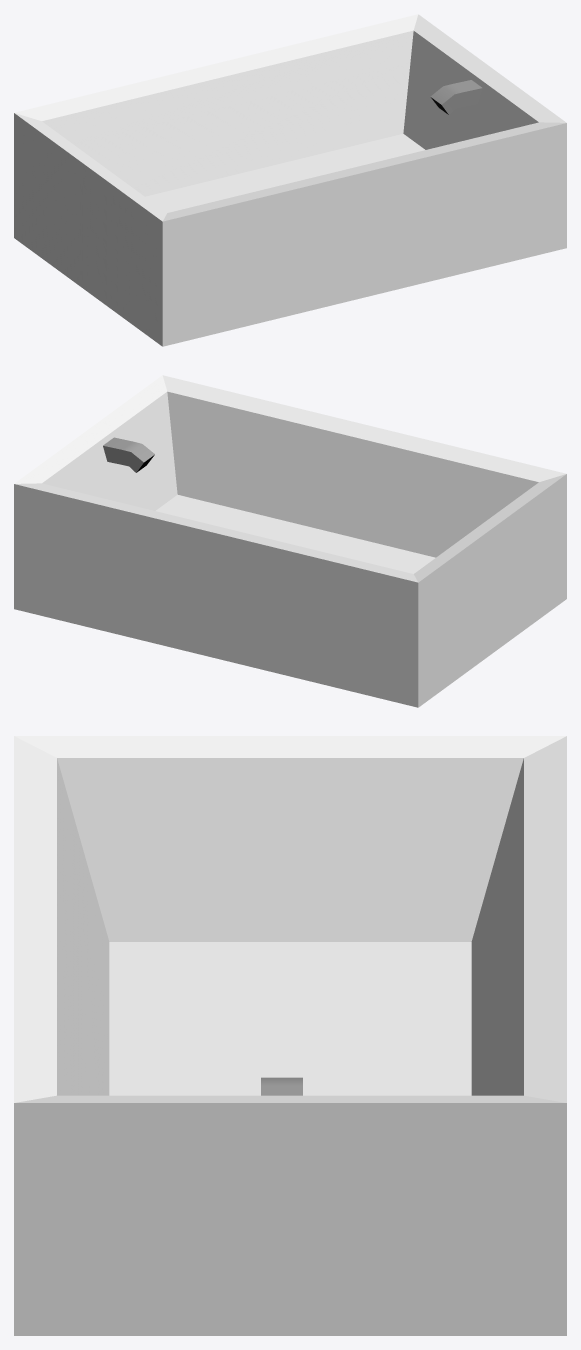
The model's file is bathtub_1 (1).fbx.
3 renders of one model, top to bottom at view 1: azimuth 30°, elevation 25°; view 2: azimuth 150°, elevation 25°; view 3: azimuth 270°, elevation 25°, orthographic. The views are drawn at different scales.
Visible parts, largest first — view 1: pCube1; view 2: pCube1; view 3: pCube1.
Boxes of the visible parts, left/top/right/bottom form: pCube1: left=14, top=14, right=566, bottom=346; pCube1: left=14, top=375, right=566, bottom=707; pCube1: left=14, top=736, right=566, bottom=1335.
Bounding box in the file's own units: 3.49 × 1.03 × 2.22.
